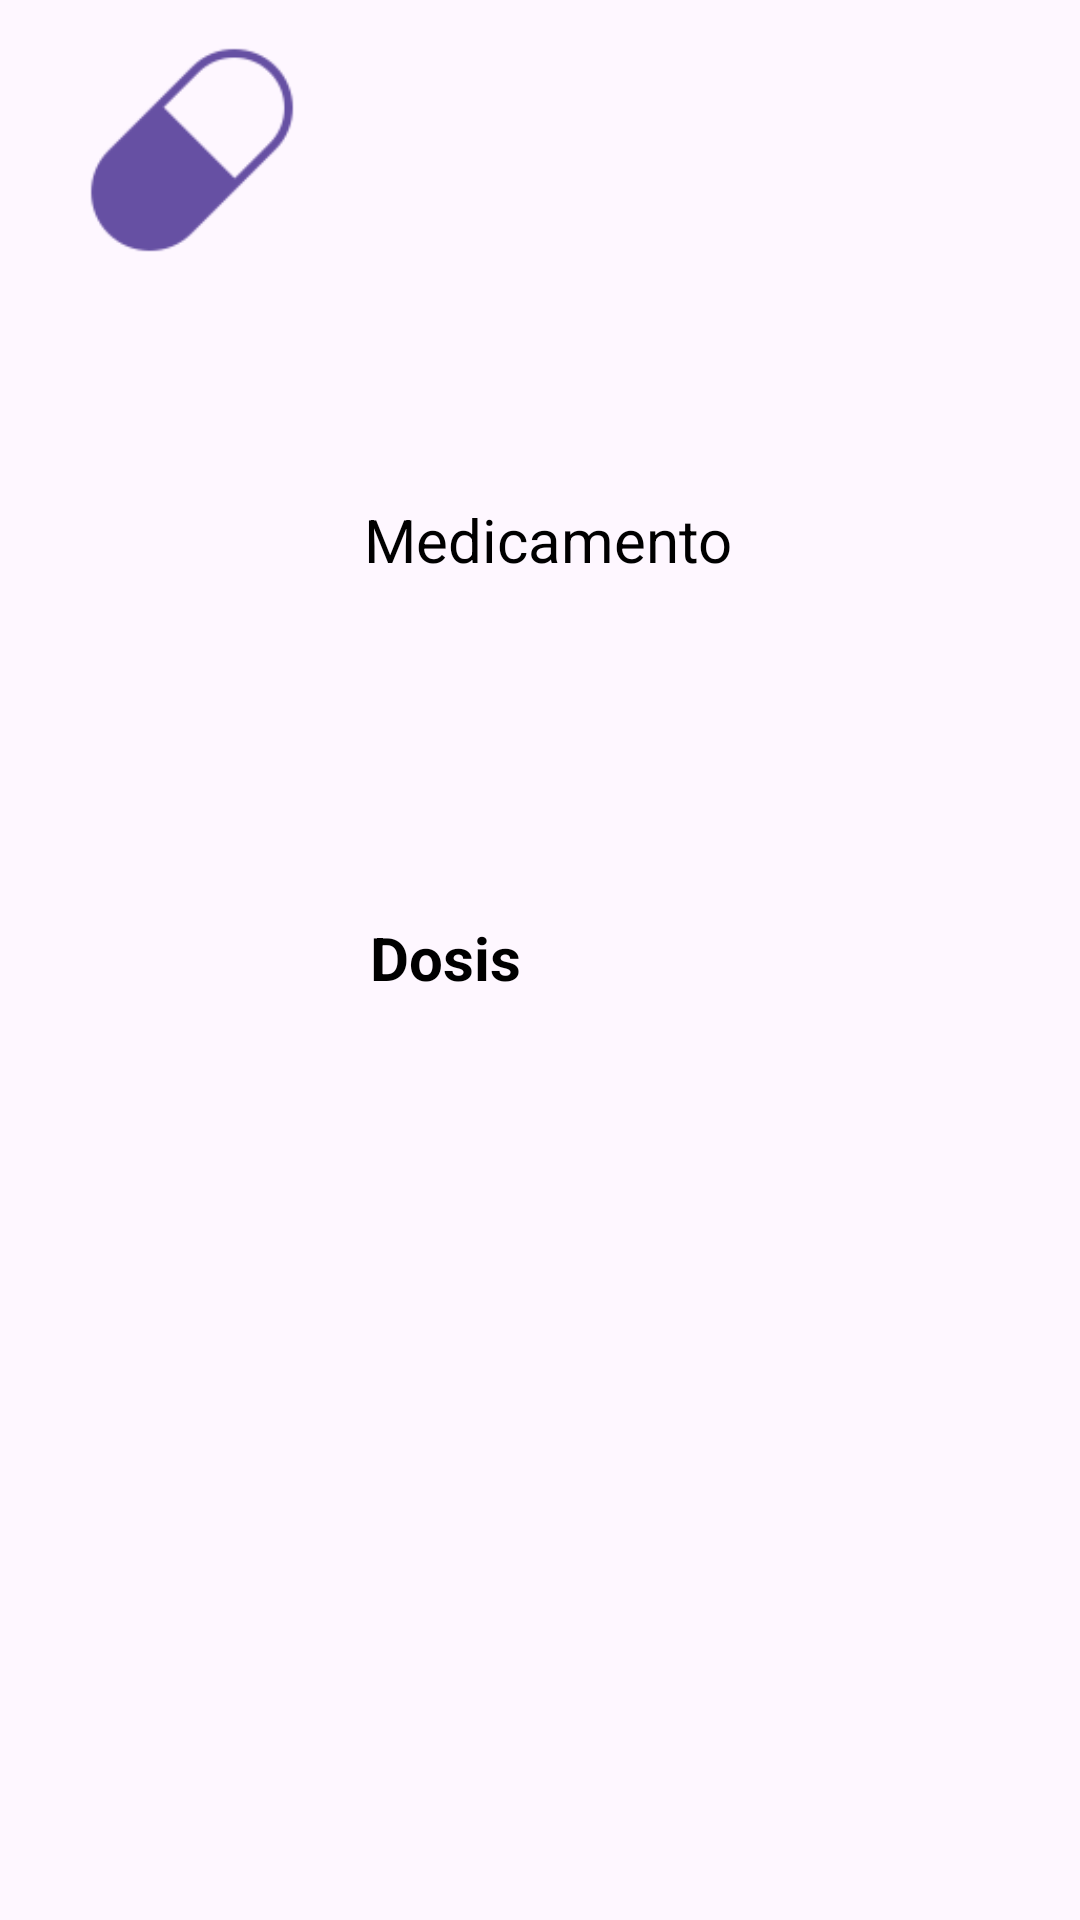

Screen size 1080*1920. Icon name, then its box in pixels as [left=x1, top=y1, right=x2, bottom=y2]:
pill: [left=90, top=48, right=294, bottom=252]
